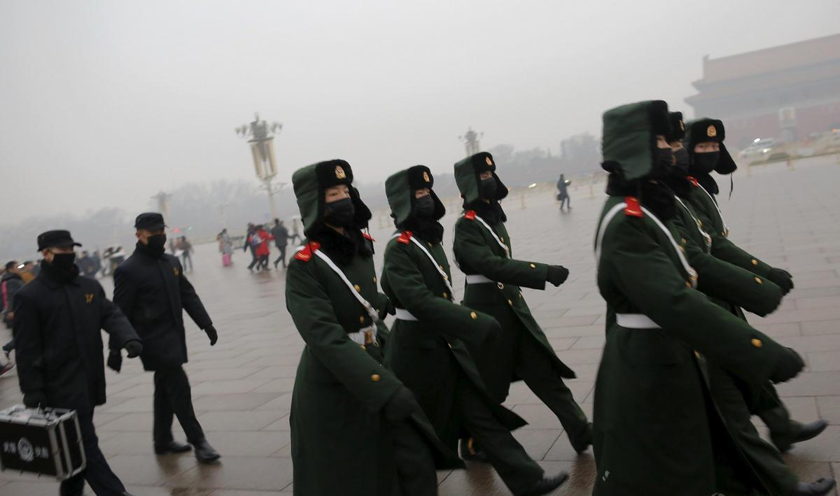car: (747, 136, 776, 152), (736, 145, 768, 159)
person: (583, 98, 837, 496), (595, 110, 837, 494), (378, 163, 572, 496), (640, 116, 830, 456), (285, 158, 443, 494), (453, 150, 608, 456), (12, 229, 143, 496), (105, 211, 223, 464), (1, 259, 33, 361), (17, 260, 50, 356), (247, 223, 276, 272), (77, 250, 101, 305), (243, 223, 265, 275), (271, 217, 290, 271), (556, 172, 574, 215), (175, 234, 194, 274), (107, 245, 129, 279), (218, 228, 234, 265), (99, 246, 116, 279), (91, 251, 108, 279)
